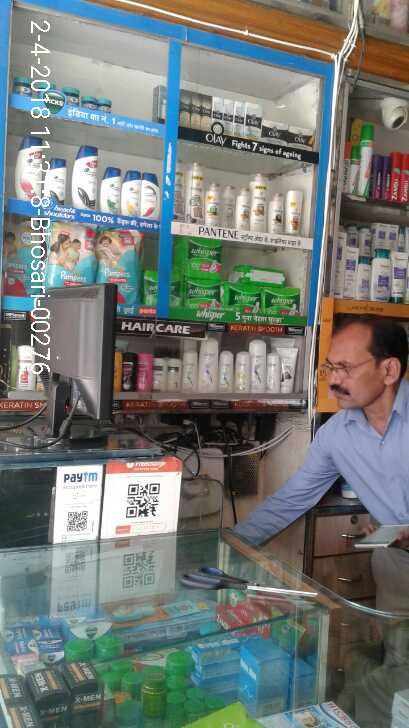vicks: (12, 74, 113, 118)
